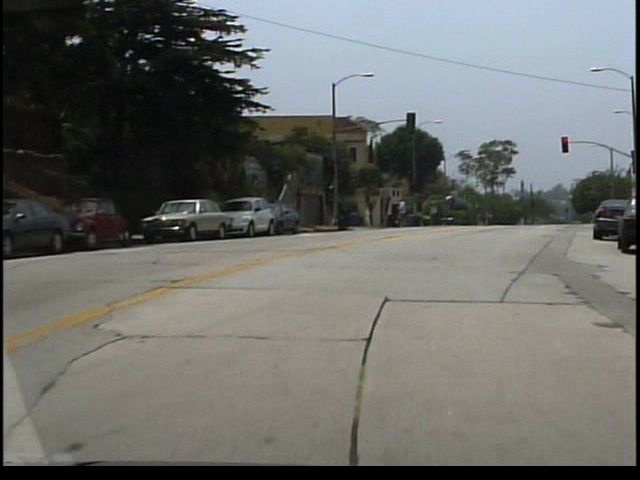person: (399, 199, 411, 230), (367, 205, 375, 230)
